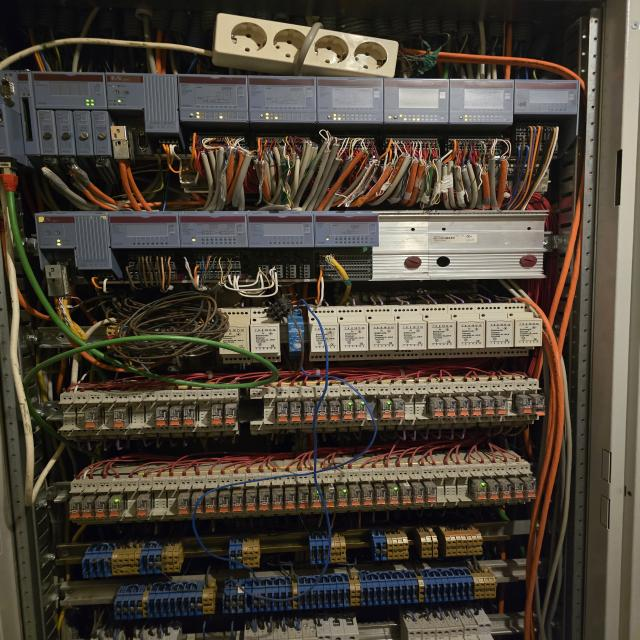Dimmer: (501, 304, 541, 356), (476, 304, 514, 357), (391, 306, 428, 359), (419, 306, 456, 359), (447, 305, 484, 358), (363, 306, 398, 360), (220, 308, 251, 364), (306, 307, 338, 361), (251, 308, 281, 363), (338, 306, 368, 361), (286, 308, 306, 354)
Relais: (428, 397, 444, 418), (472, 481, 488, 501), (516, 395, 531, 415), (468, 397, 482, 418), (532, 395, 546, 416), (340, 401, 354, 421), (456, 397, 470, 417), (494, 396, 508, 416), (108, 499, 122, 519), (379, 399, 392, 420), (69, 500, 82, 521), (113, 410, 128, 428), (169, 408, 182, 428), (183, 407, 196, 427), (328, 402, 341, 422), (304, 402, 316, 423), (82, 499, 94, 520), (137, 497, 149, 518), (217, 496, 231, 514), (85, 411, 98, 430), (374, 489, 387, 508), (354, 400, 366, 420), (482, 396, 494, 416), (94, 499, 106, 519), (190, 497, 203, 515), (204, 497, 217, 515), (270, 494, 283, 512), (290, 402, 301, 423), (445, 397, 456, 418), (178, 497, 190, 516), (284, 492, 296, 511), (349, 490, 361, 509), (413, 487, 425, 506), (500, 481, 512, 500), (524, 480, 536, 499), (257, 494, 270, 511), (297, 493, 310, 510), (156, 408, 167, 428), (211, 406, 222, 426), (277, 404, 288, 424), (393, 398, 404, 418), (488, 481, 499, 501), (232, 495, 244, 513), (323, 491, 335, 509), (337, 490, 348, 509), (362, 489, 373, 508), (317, 402, 327, 422), (225, 407, 236, 425), (310, 492, 321, 510), (426, 487, 437, 505), (513, 481, 524, 499), (389, 488, 399, 507), (401, 488, 412, 505), (245, 496, 256, 512)
SPS-System -Steuerungskomponente-: (176, 74, 248, 124), (248, 76, 317, 124), (318, 76, 382, 124), (384, 78, 450, 124), (31, 72, 105, 110), (452, 79, 514, 124), (105, 72, 178, 110), (35, 214, 109, 248), (109, 214, 180, 248), (247, 213, 314, 248), (515, 79, 580, 115), (181, 214, 246, 249), (316, 213, 378, 248)
Sicherungen_230V: (401, 614, 493, 640)
Verbinder: (221, 565, 496, 614), (113, 580, 215, 619), (81, 543, 180, 576), (438, 526, 482, 557), (371, 531, 409, 560), (308, 536, 346, 564), (228, 540, 261, 568), (418, 528, 438, 558)
